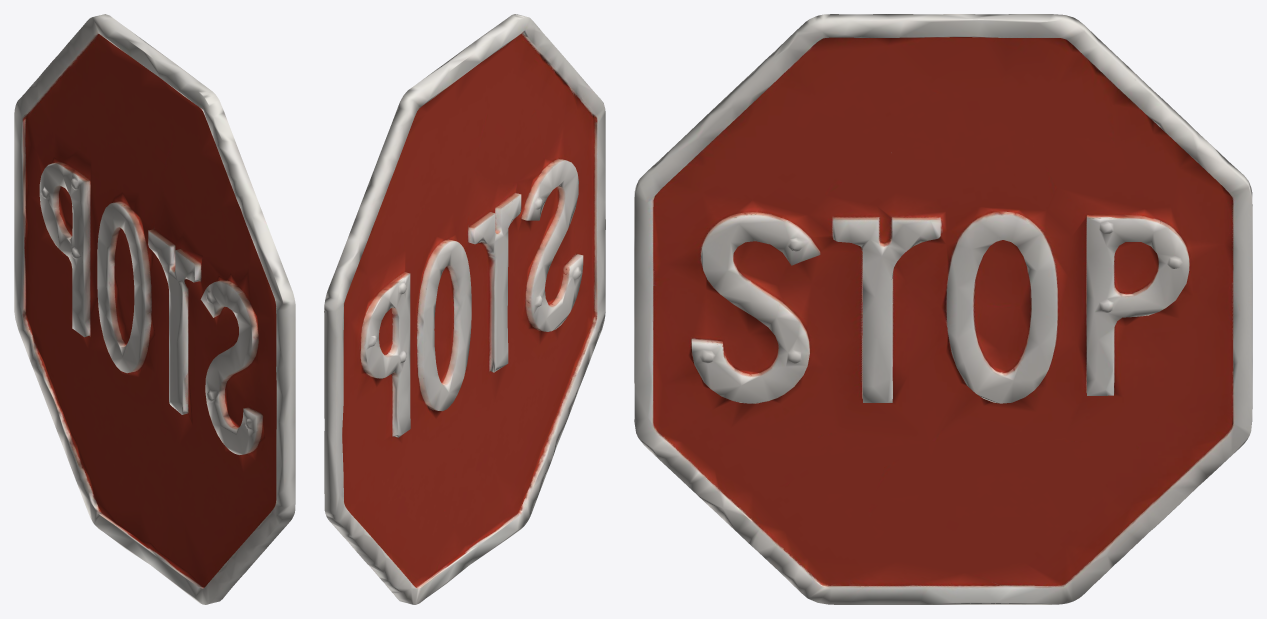
3 views of the same model, side by side, from view 1: azimuth 30°, elevation 25°; view 2: azimuth 150°, elevation 25°; view 3: azimuth 270°, elevation 25° (orthographic). The views are drawn at different scales.
Visible parts, largest first — view 1: tripo_node_ab87b418-bd8d-4b28-a2c6-a97b1c8e01b7; view 2: tripo_node_ab87b418-bd8d-4b28-a2c6-a97b1c8e01b7; view 3: tripo_node_ab87b418-bd8d-4b28-a2c6-a97b1c8e01b7.
Part boxes in pixels (x1=…): tripo_node_ab87b418-bd8d-4b28-a2c6-a97b1c8e01b7: x1=14, y1=14, x2=295, y2=604; tripo_node_ab87b418-bd8d-4b28-a2c6-a97b1c8e01b7: x1=324, y1=14, x2=605, y2=604; tripo_node_ab87b418-bd8d-4b28-a2c6-a97b1c8e01b7: x1=634, y1=14, x2=1252, y2=604.
Bounding box in the file's own units: 0.0221 × 0.4609 × 0.4418.
Materials: 1 (1 with a texture image).
